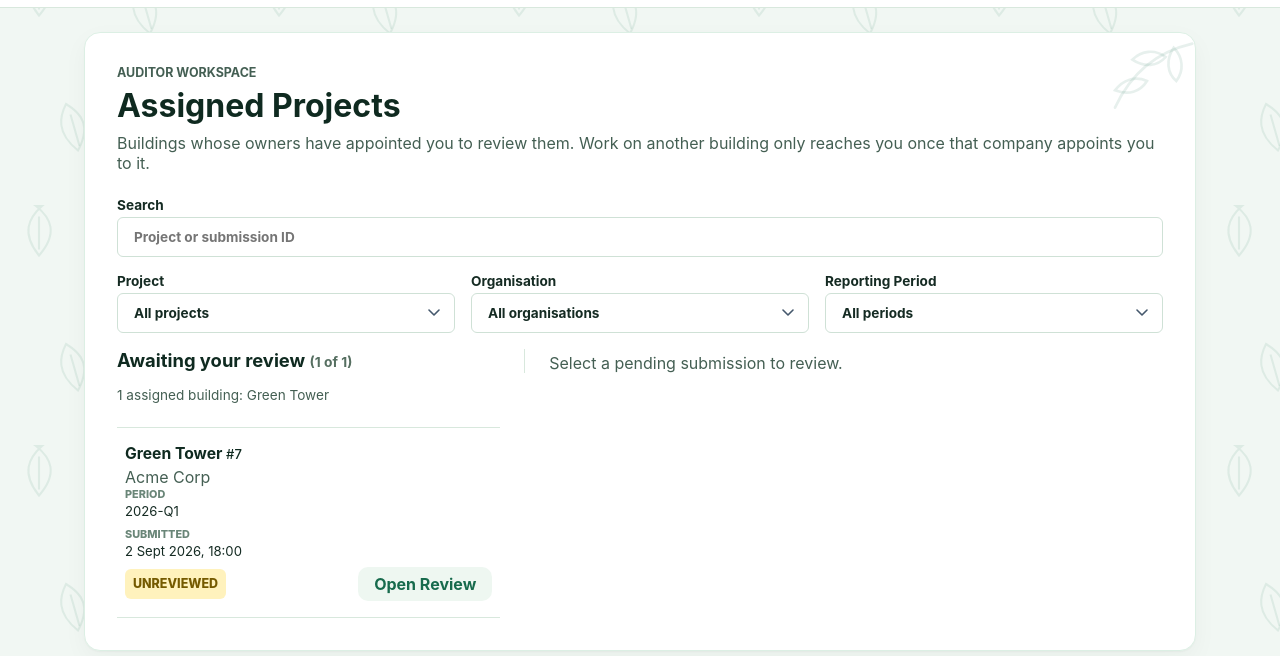
it: auditor review workflow › approve updates the UI from the server response
expect the heading "Assigned Projects" is shown: met, box [117,86,401,125]
Click the button "Open Review": click(425, 584) [358,567,492,601]
(page scrolled)
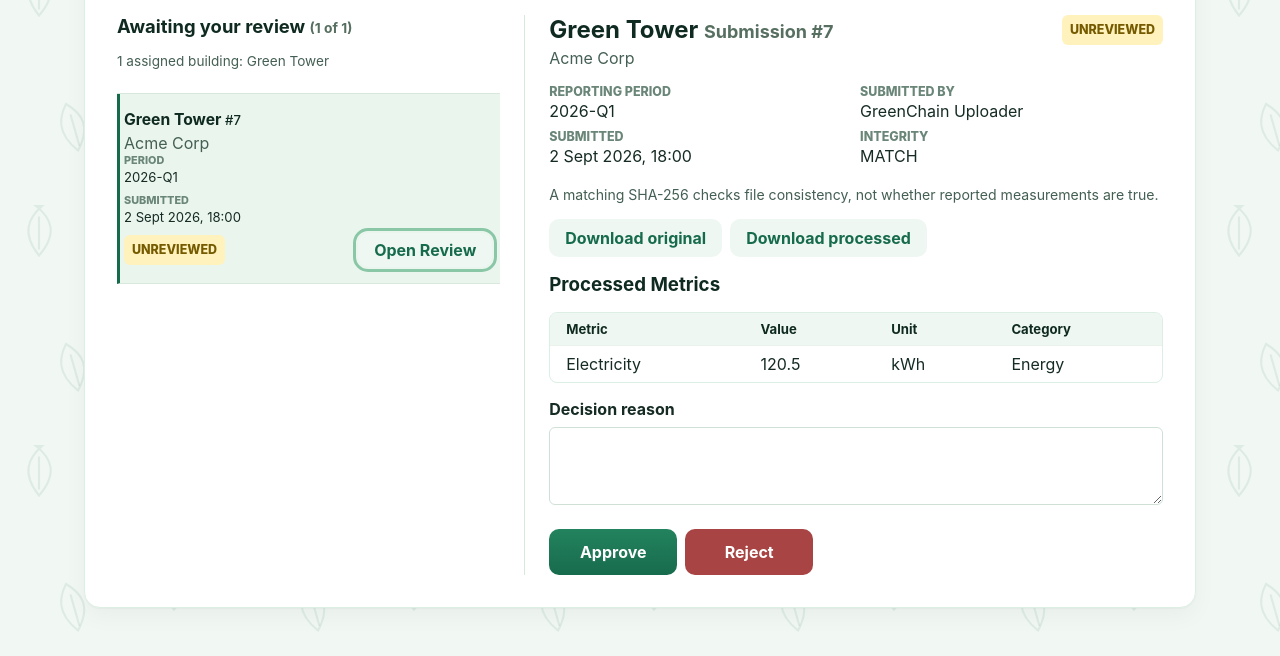
expect the heading "Green Tower Submission #7" is shown: met, box [549,15,833,44]
Click the button "Approve": click(613, 552) [549,529,677,575]
(page scrolled)
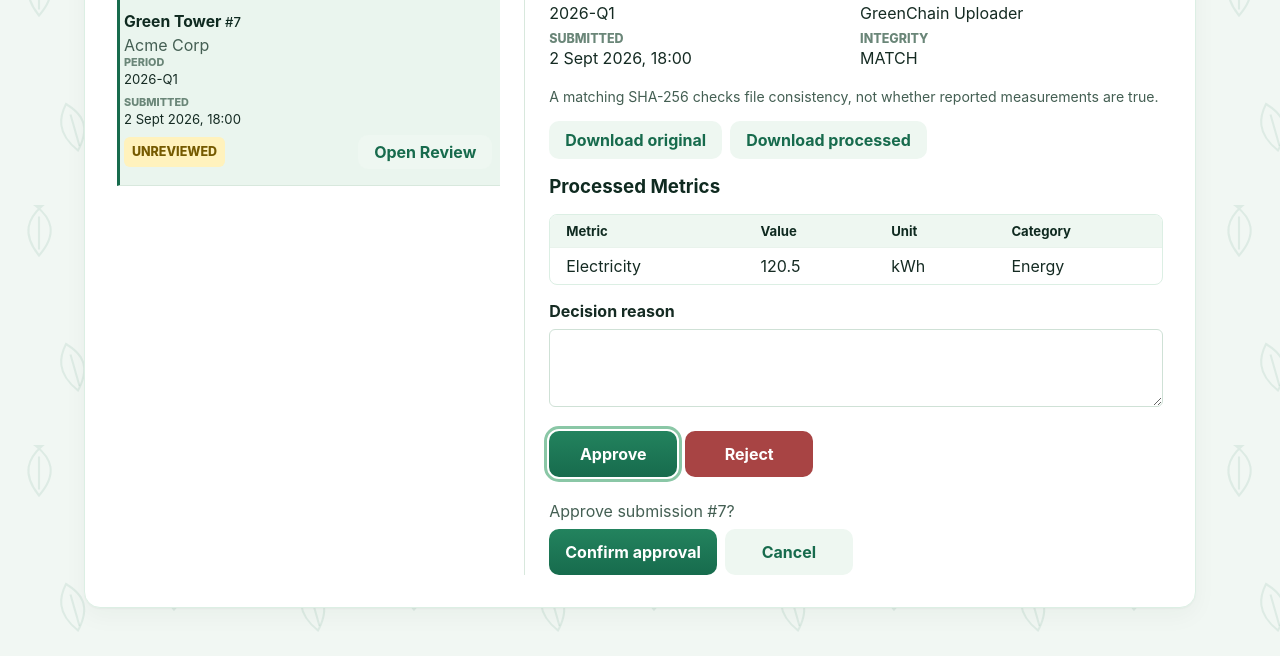
Click the button "Confirm approval": click(633, 552) [549,529,717,575]
(page scrolled)
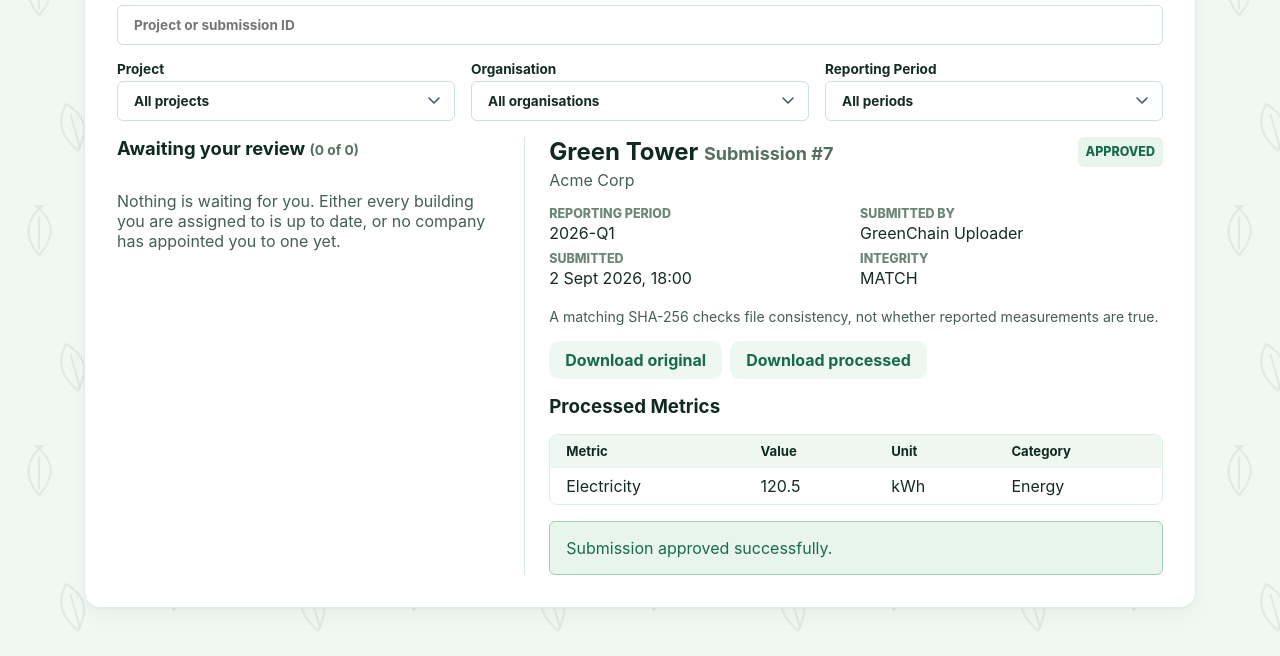
expect the text "Submission approved successfully." is shown: met, box [549,521,1163,575]
expect the text "APPROVED" is shown: met, box [1078,137,1163,167]
